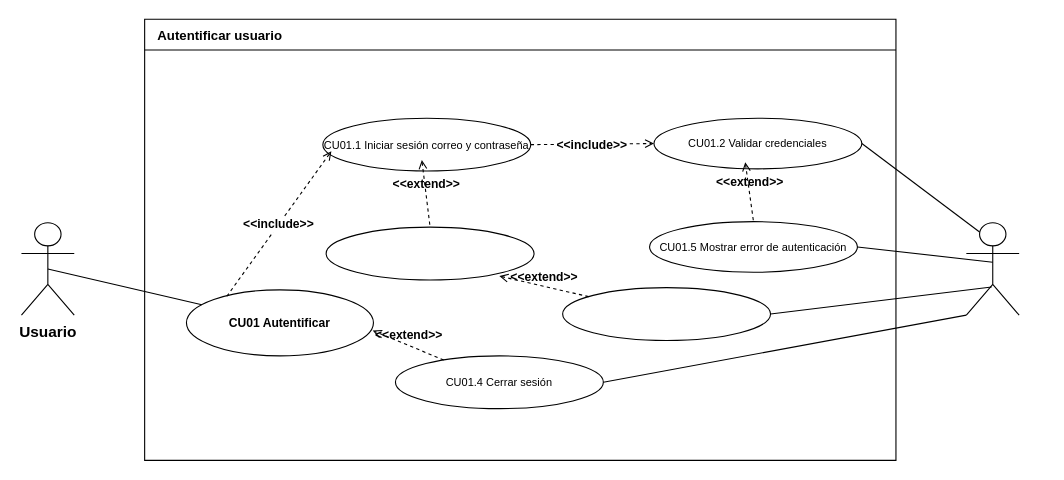
Image size: 1064x480. Some labels were removed from this diagram. The centre of each missing label's shape, as x and y in pixels:
"Base de Datos" belongs at (992,268).
"CU01.3 Recuperar contraseña mediante correo" belongs at (429,253).
"CU01.6 R eenviar el código de verificación para recuperar mi contraseña" belongs at (666,313).
